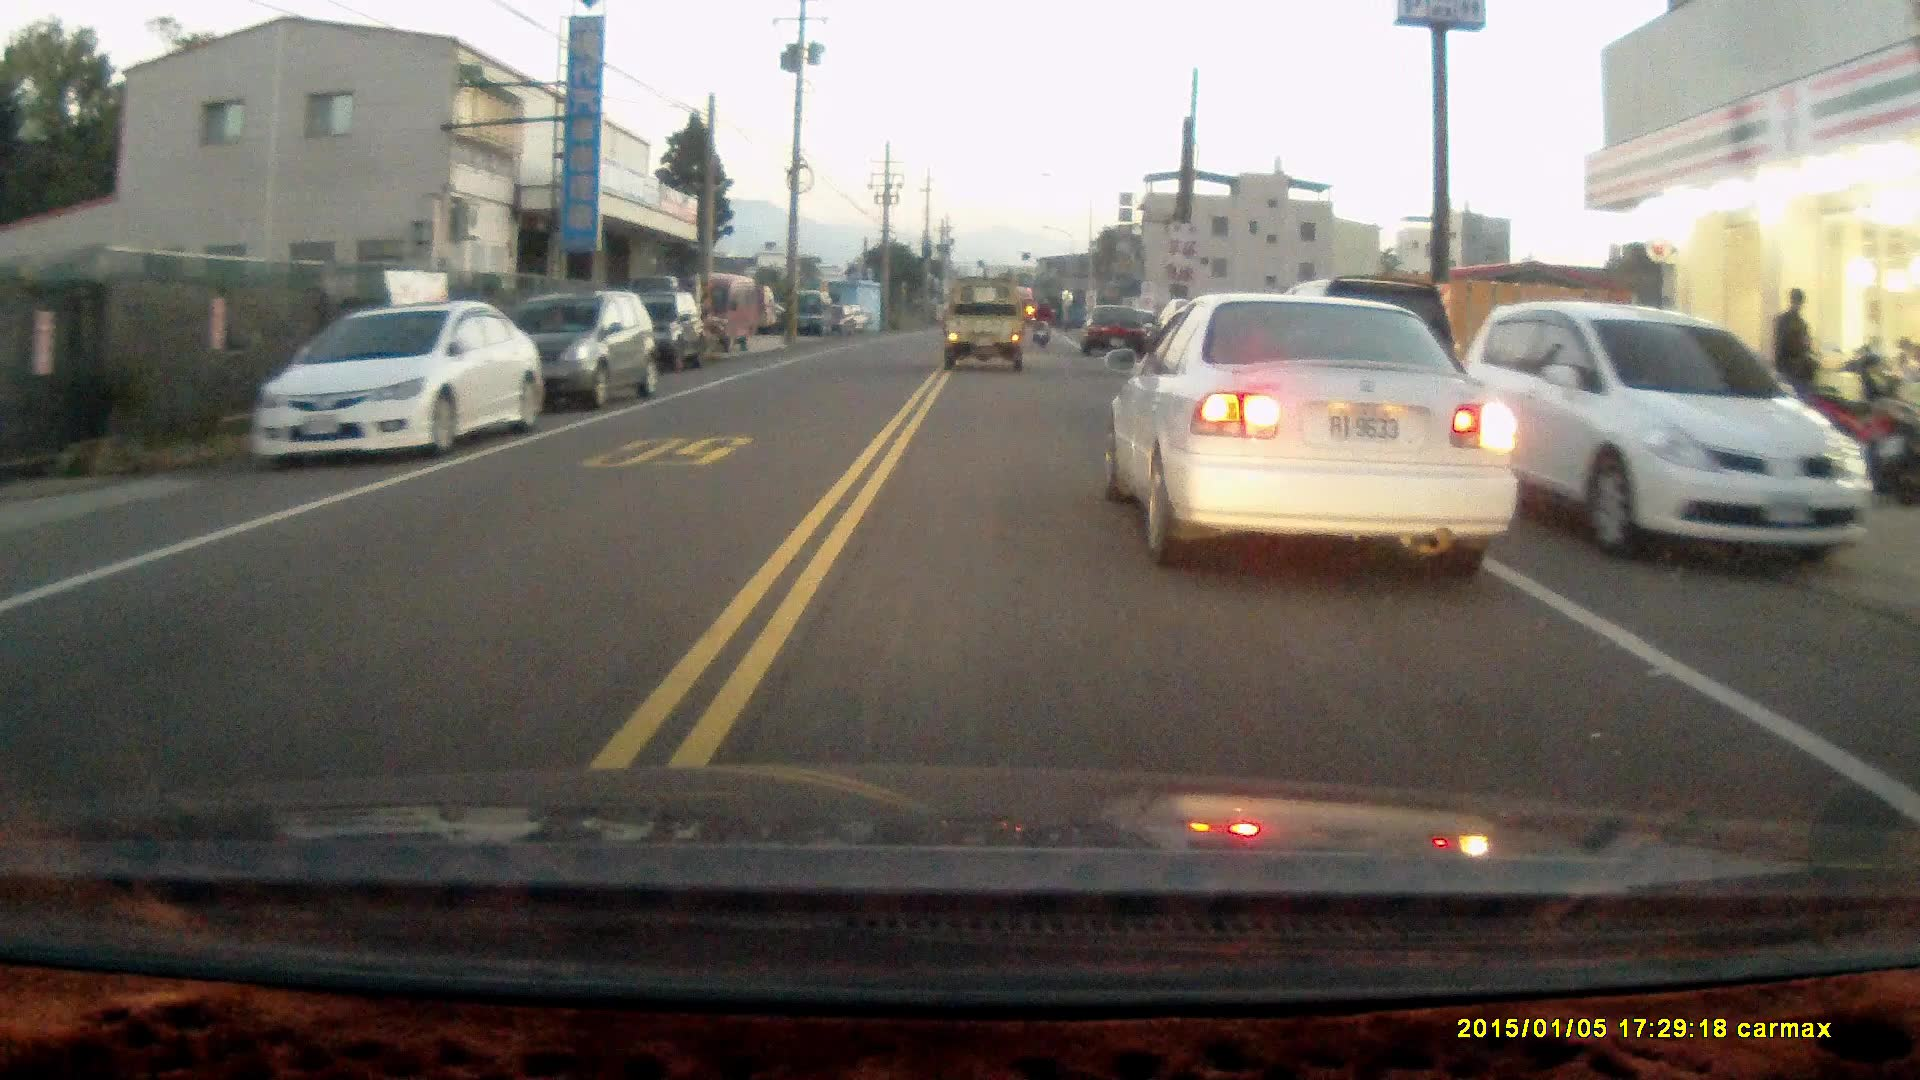pedestrian: (1770, 285, 1815, 398)
rider: (1027, 296, 1054, 344)
vehicle: (1108, 290, 1518, 572), (1454, 297, 1875, 557), (251, 298, 548, 461), (470, 286, 653, 408), (941, 272, 1028, 369), (616, 290, 713, 377), (689, 271, 769, 347), (1083, 304, 1154, 354)
